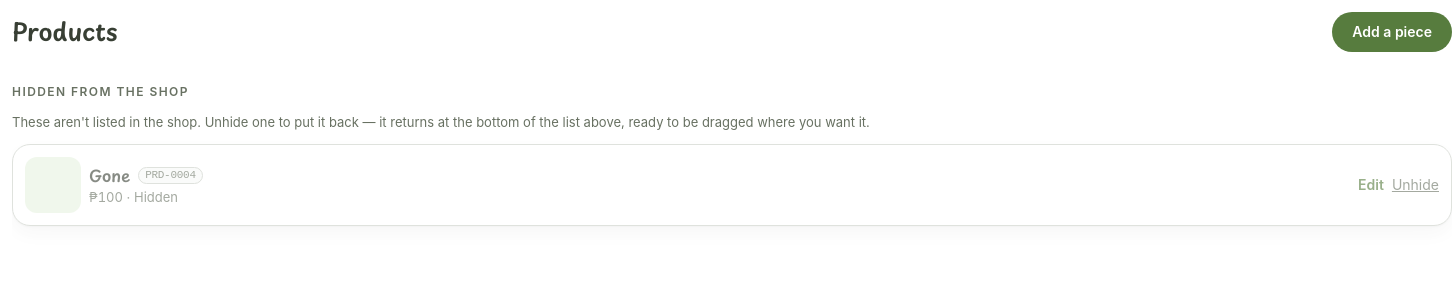
Test: hiding and unhiding a piece › says so and leaves the piece hidden when unhiding fails
This screenshot has width=1452, height=284.
Click the button with aria-label "unhide gone" at (1415, 185), box [1392,175,1439,195]
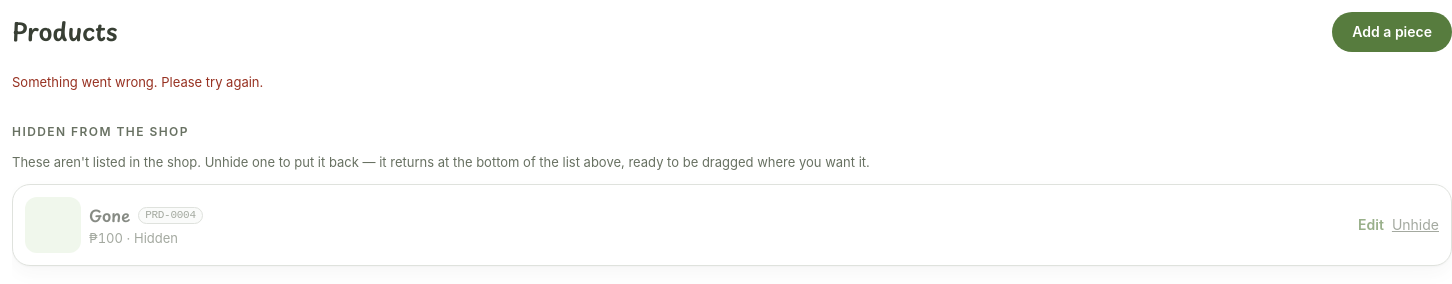
Expected: the button with aria-label "unhide gone" is shown, [1392,215,1439,235]
Expected: the text "Something went wrong. Please try again." is shown, [12,74,263,90]
